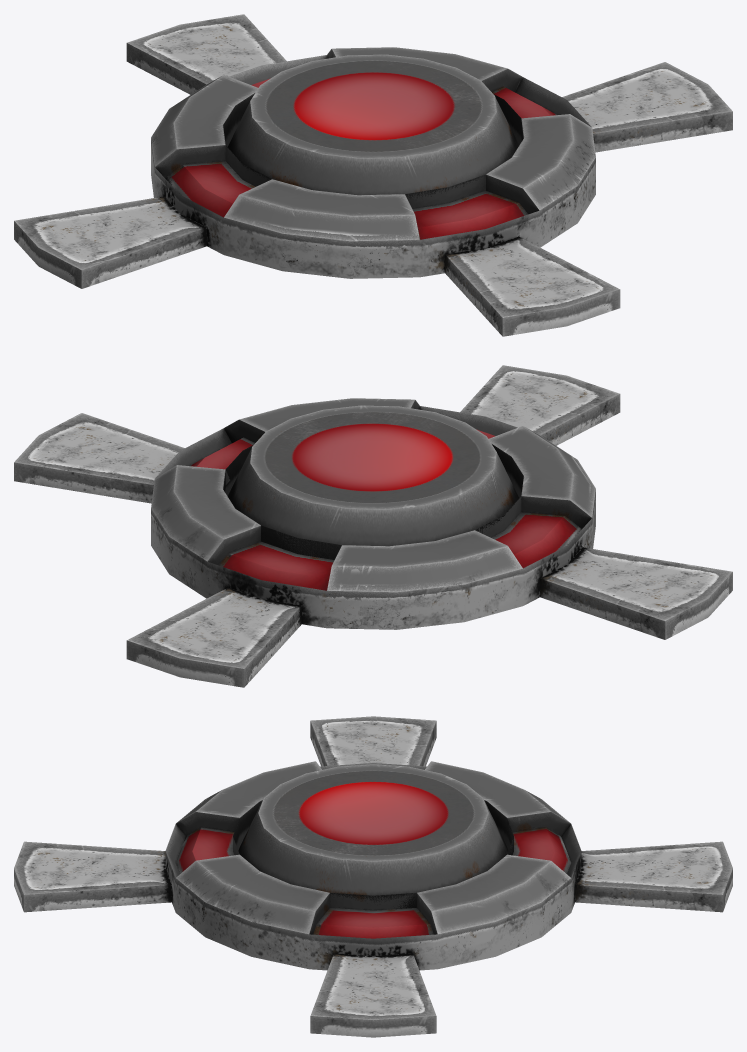
File: Land Mine.Fbx
3 renders of one model, top to bottom at view 1: azimuth 30°, elevation 25°; view 2: azimuth 150°, elevation 25°; view 3: azimuth 270°, elevation 25°, orthographic. The views are drawn at different scales.
Parts seen in each view (by area): view 1: polySurface1; view 2: polySurface1; view 3: polySurface1.
Part boxes in pixels (bbox=[...]): polySurface1: bbox=[14, 14, 732, 336]; polySurface1: bbox=[14, 365, 732, 687]; polySurface1: bbox=[14, 716, 732, 1037].
Bounding box in the file's own units: 8.66 × 0.9662 × 8.66.
